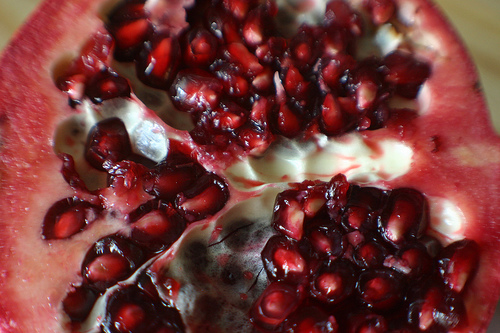pomogranate: (0, 0, 499, 331)
